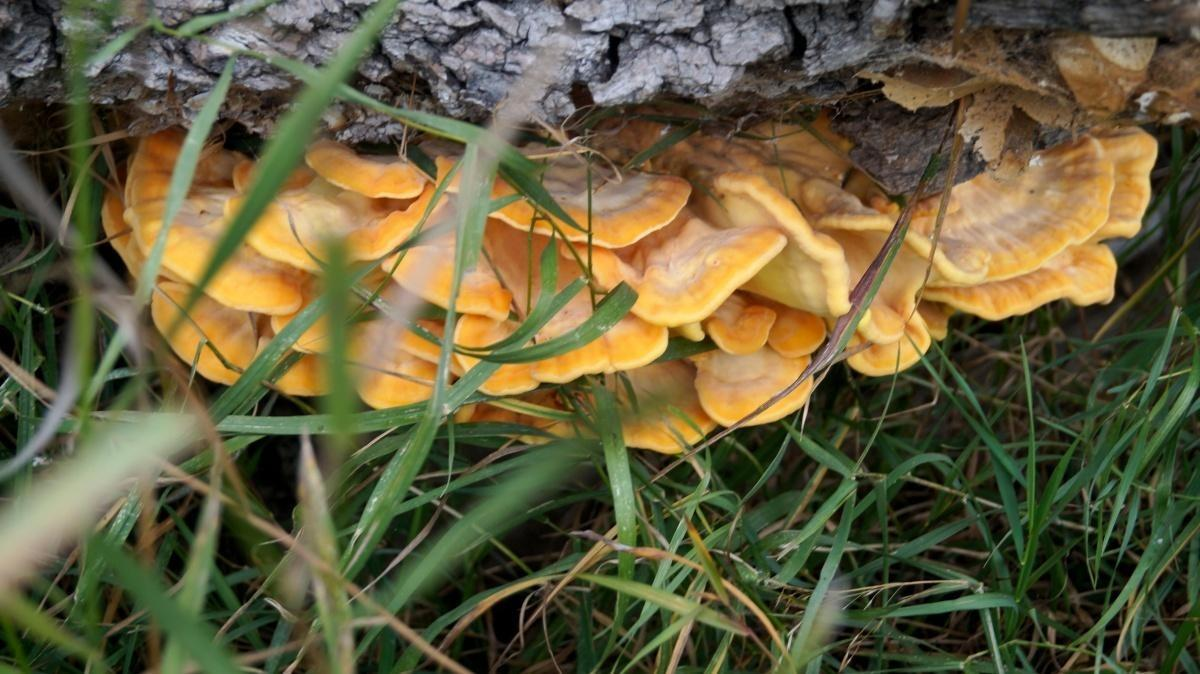Sulphur-yellow tinder fungus: (102, 118, 899, 452)
